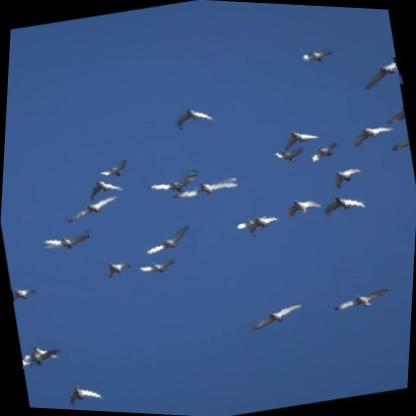bird: (170, 169, 240, 207), (244, 300, 307, 334), (138, 223, 197, 259), (331, 283, 393, 316), (143, 165, 201, 200), (61, 193, 122, 226), (38, 222, 95, 257), (318, 187, 371, 223), (346, 118, 399, 151), (353, 57, 401, 92), (170, 100, 219, 134), (64, 379, 108, 411), (23, 339, 62, 371), (86, 173, 127, 203), (279, 123, 321, 152), (19, 343, 62, 371), (281, 193, 323, 221), (303, 138, 344, 166), (135, 255, 179, 281), (327, 162, 366, 191), (245, 208, 284, 237), (298, 43, 335, 69), (94, 157, 131, 182), (271, 142, 306, 166), (99, 257, 133, 281), (233, 213, 268, 235), (10, 283, 37, 302)
